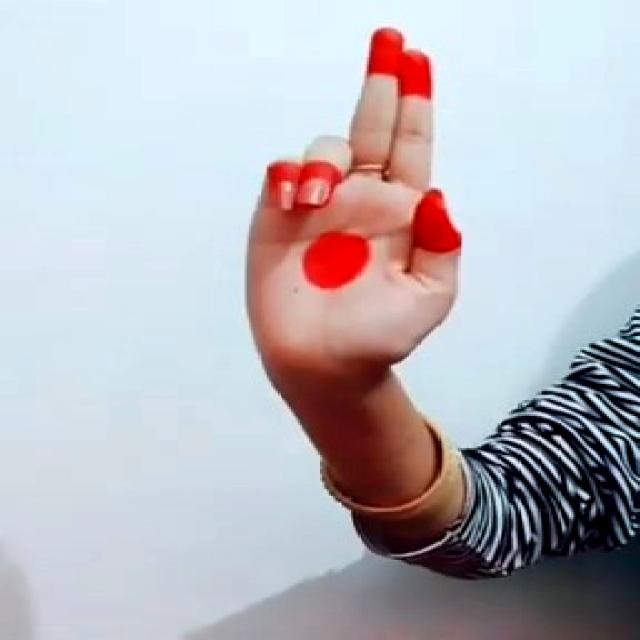Ardhapataka: (213, 26, 500, 370)
bangle: (296, 428, 490, 528)
